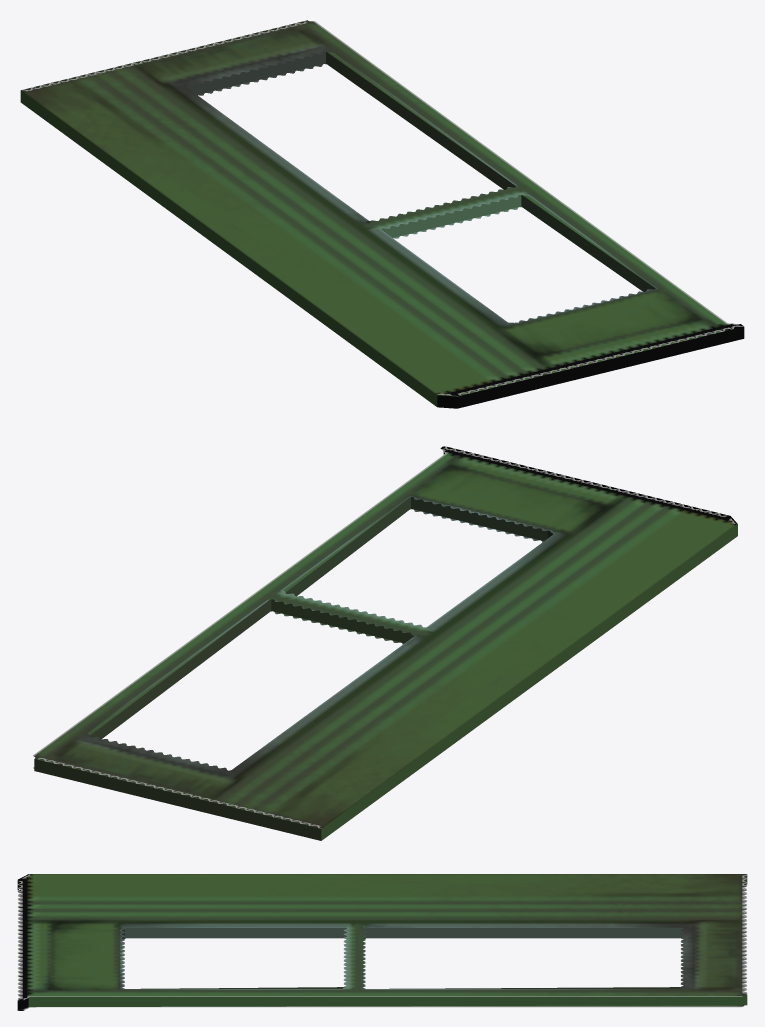
File: pz_native_location_shop_greenes_01_18_frame.obj
The picture shows the model from 3 angles, top to bottom: view 1: azimuth 30°, elevation 25°; view 2: azimuth 150°, elevation 25°; view 3: azimuth 270°, elevation 25°; orthographic projection. The views are drawn at different scales.
Parts seen in each view (by area): view 1: pz_native_location_shop_greenes_01_18_frame; view 2: pz_native_location_shop_greenes_01_18_frame; view 3: pz_native_location_shop_greenes_01_18_frame.
Part boxes in pixels (x1=…): pz_native_location_shop_greenes_01_18_frame: x1=20, y1=20, x2=744, y2=408; pz_native_location_shop_greenes_01_18_frame: x1=33, y1=446, x2=737, y2=840; pz_native_location_shop_greenes_01_18_frame: x1=17, y1=874, x2=747, y2=1010.
Size of the model in its own units: 1.06 by 0.04 by 2.54.
1 material, 1 textured.
